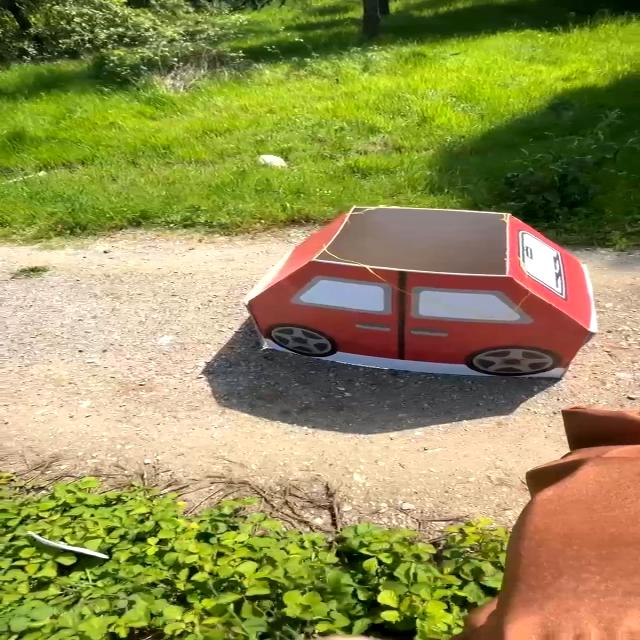red_car: (222, 189, 624, 393)
